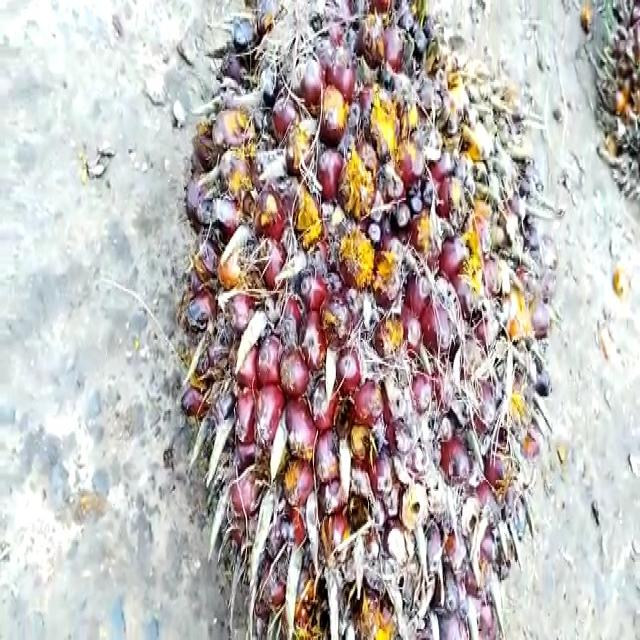palm oil: (162, 0, 558, 640)
